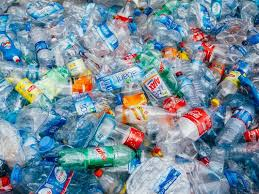garbage: (1, 1, 259, 191)
